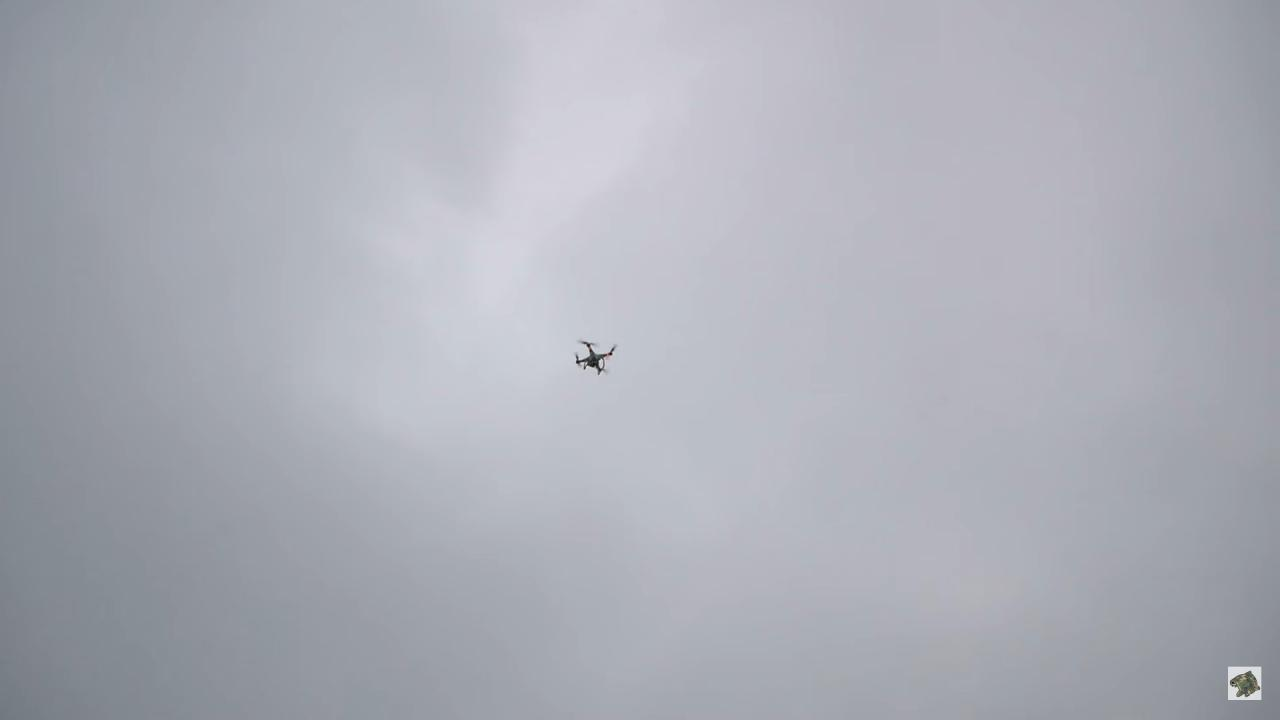Drone: (562, 326, 626, 386)
